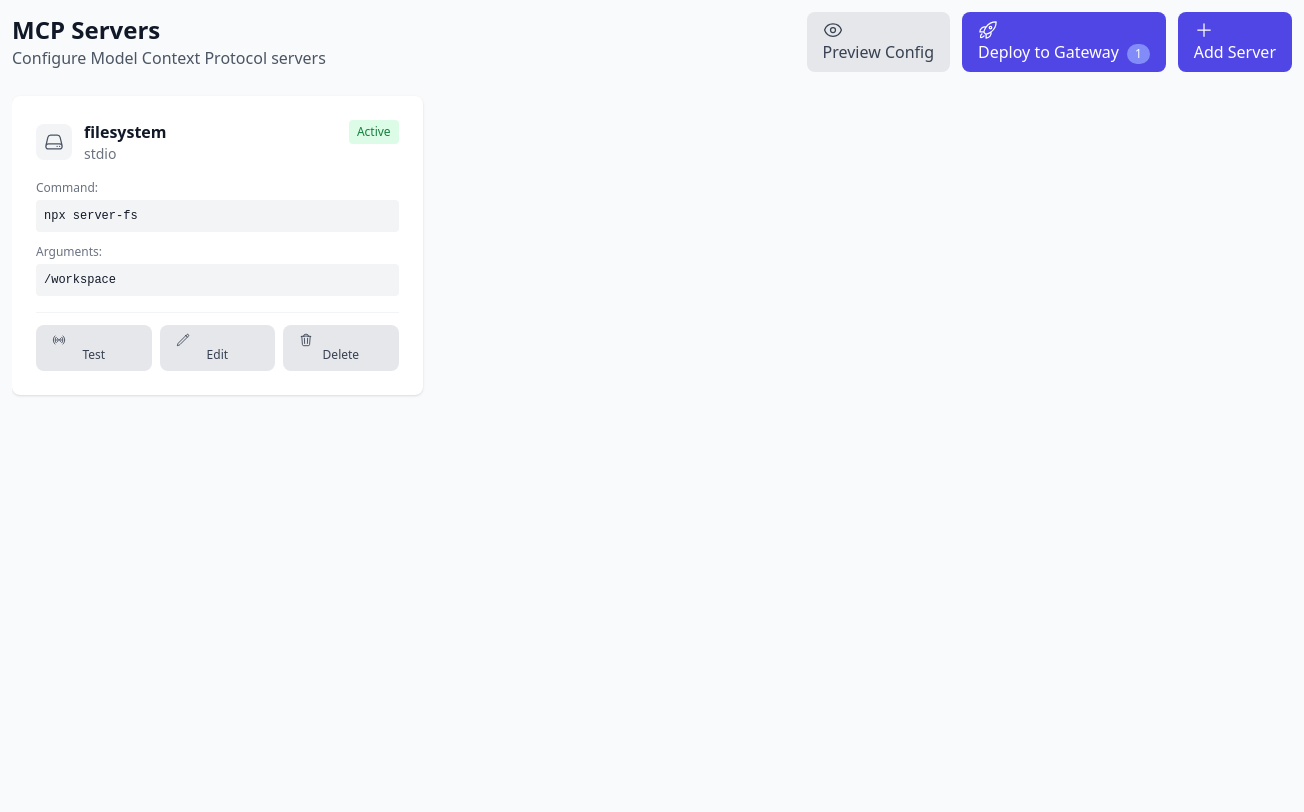
MCPServers › opens edit form with pre-filled data when Edit is clicked
Click the button "Edit" at (217,348), box [160,325,275,371]
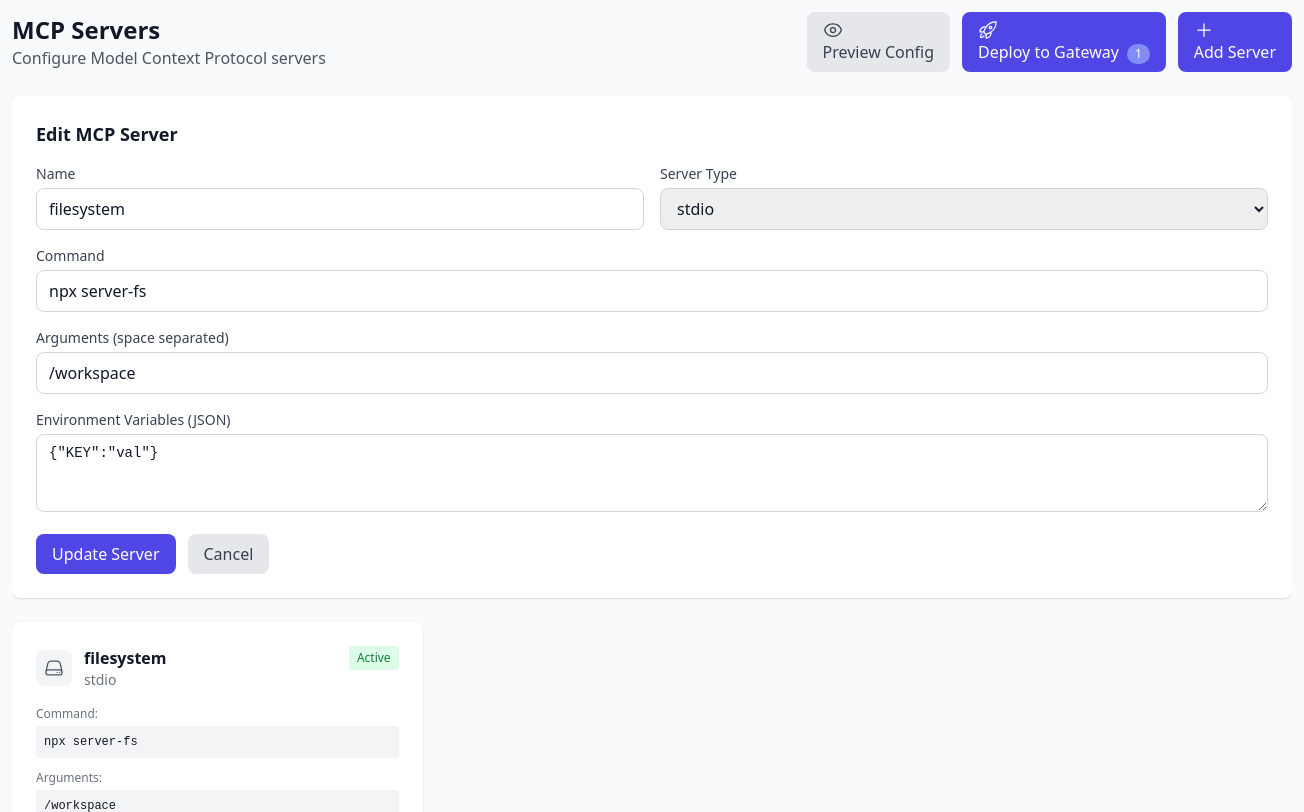
Now the heading "Edit MCP Server" is shown, box [36,122,178,146]
Now the field labelled "Name" holds "filesystem", box [36,188,644,230]
Now the field labelled "Command" holds "npx server-fs", box [36,270,1268,312]
